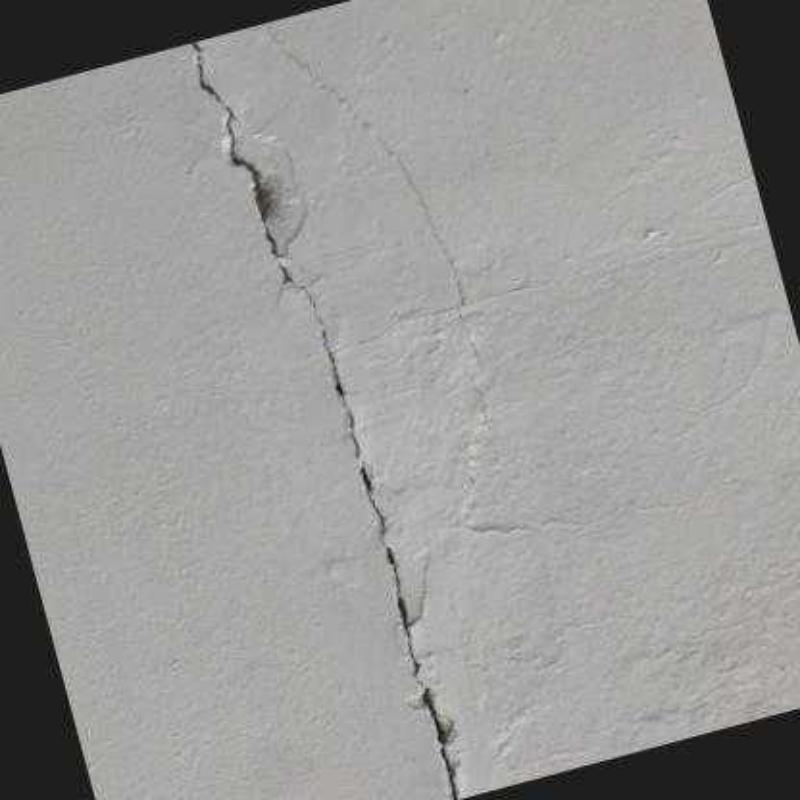pothole: (188, 42, 460, 799)
